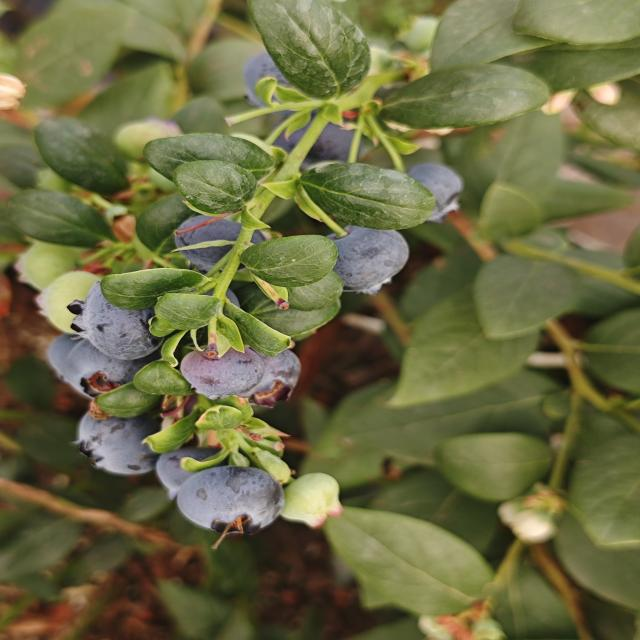ripe: (173, 463, 288, 544), (64, 278, 165, 364), (324, 223, 412, 298), (73, 398, 161, 470), (46, 332, 138, 394), (176, 343, 270, 402), (145, 441, 240, 495), (267, 116, 364, 166), (409, 163, 474, 212), (244, 54, 306, 99), (178, 216, 232, 260), (264, 343, 304, 386)
